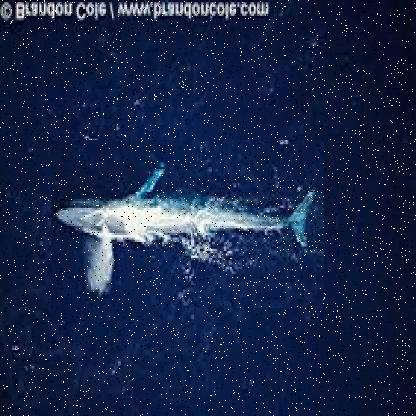blue_whale: (52, 138, 326, 320)
